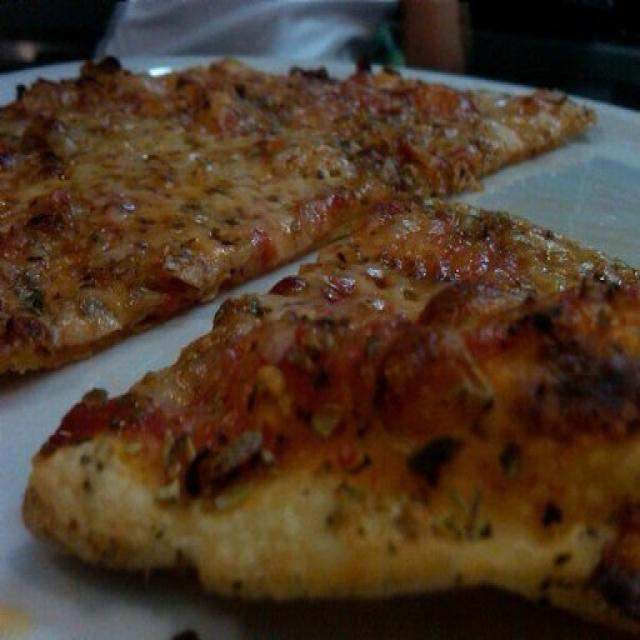Pizza: (20, 202, 640, 625), (0, 58, 595, 377)
